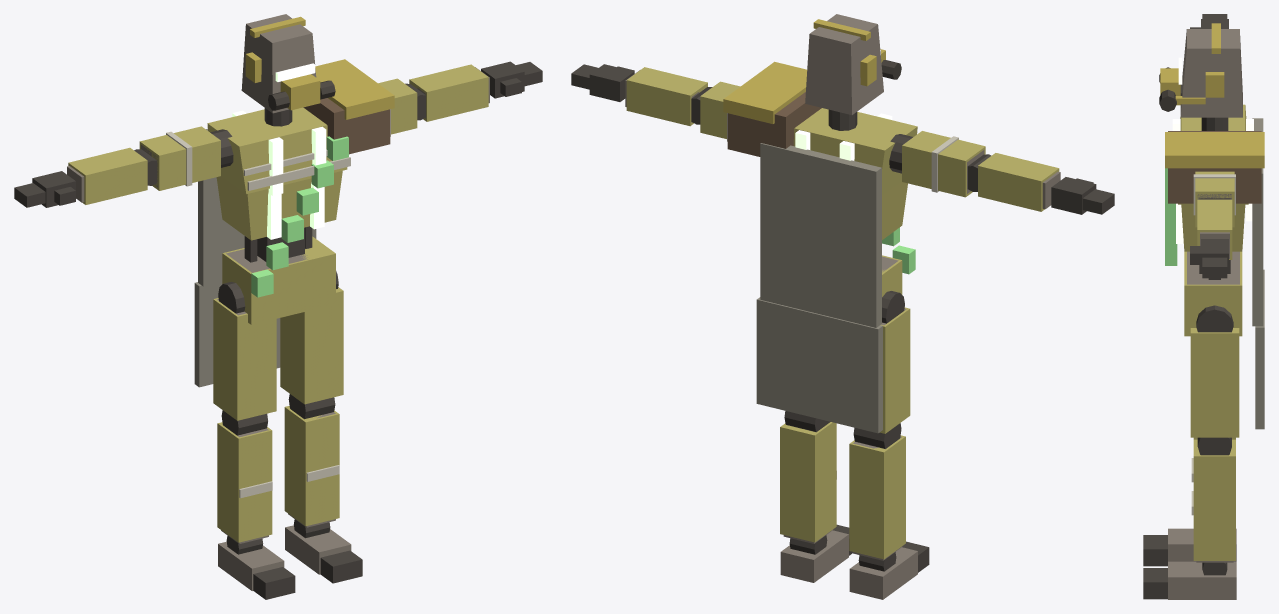
File: char_P_cargo_handler.glb
3 views of the same model, side by side, from view 1: azimuth 30°, elevation 25°; view 2: azimuth 150°, elevation 25°; view 3: azimuth 270°, elevation 25° (orthographic). The views are drawn at different scales.
Visible parts, largest first — view 1: UpperChest_mesh, Hips_mesh, RightUpperLeg_mesh, RightLowerLeg_mesh, LeftLowerLeg_mesh, Head_mesh, LeftUpperLeg_mesh, Chest_mesh, LeftShoulder_mesh, RightLowerArm_mesh, RightUpperArm_mesh, LeftLowerArm_mesh (+8 smaller); view 2: UpperChest_mesh, Hips_mesh, RightLowerLeg_mesh, Head_mesh, LeftLowerLeg_mesh, LeftShoulder_mesh, RightLowerArm_mesh, RightUpperArm_mesh, RightUpperLeg_mesh, LeftLowerArm_mesh, RightFoot_mesh, LeftFoot_mesh (+4 smaller); view 3: Head_mesh, LeftUpperLeg_mesh, LeftShoulder_mesh, LeftLowerLeg_mesh, Hips_mesh, UpperChest_mesh, LeftFoot_mesh, Chest_mesh, LeftLowerArm_mesh, LeftUpperArm_mesh, LeftHand_mesh, RightFoot_mesh (+4 smaller).
Part boxes in pixels (bbox=[...]): UpperChest_mesh: bbox=[198, 107, 350, 286]; Hips_mesh: bbox=[194, 236, 335, 387]; RightUpperLeg_mesh: bbox=[213, 281, 276, 420]; RightLowerLeg_mesh: bbox=[217, 410, 272, 543]; LeftLowerLeg_mesh: bbox=[284, 394, 339, 527]; Head_mesh: bbox=[241, 14, 335, 113]; LeftUpperLeg_mesh: bbox=[280, 271, 343, 404]; Chest_mesh: bbox=[216, 171, 342, 297]; LeftShoulder_mesh: bbox=[303, 59, 394, 154]; RightLowerArm_mesh: bbox=[67, 147, 157, 204]; RightUpperArm_mesh: bbox=[139, 126, 220, 190]; LeftLowerArm_mesh: bbox=[405, 64, 489, 121]; UpperChest_mesh: bbox=[760, 108, 917, 327]; Hips_mesh: bbox=[756, 255, 902, 433]; RightLowerLeg_mesh: bbox=[849, 423, 905, 560]; Head_mesh: bbox=[805, 14, 901, 114]; LeftLowerLeg_mesh: bbox=[780, 411, 836, 543]; LeftShoulder_mesh: bbox=[723, 61, 821, 156]; RightLowerArm_mesh: bbox=[967, 153, 1060, 211]; RightUpperArm_mesh: bbox=[902, 131, 985, 197]; RightUpperLeg_mesh: bbox=[880, 291, 910, 433]; LeftLowerArm_mesh: bbox=[625, 67, 712, 126]; RightFoot_mesh: bbox=[849, 547, 917, 599]; LeftFoot_mesh: bbox=[780, 530, 848, 582]; Head_mesh: bbox=[1159, 23, 1242, 117]; LeftUpperLeg_mesh: bbox=[1190, 305, 1239, 437]; LeftShoulder_mesh: bbox=[1165, 131, 1264, 203]; LeftLowerLeg_mesh: bbox=[1191, 437, 1235, 562]; Hips_mesh: bbox=[1184, 251, 1264, 429]; UpperChest_mesh: bbox=[1165, 104, 1263, 326]; LeftFoot_mesh: bbox=[1168, 561, 1236, 599]; Chest_mesh: bbox=[1165, 203, 1245, 265]; LeftLowerArm_mesh: bbox=[1197, 198, 1232, 259]; LeftUpperArm_mesh: bbox=[1193, 171, 1235, 227]; LeftHand_mesh: bbox=[1190, 239, 1228, 278]; RightFoot_mesh: bbox=[1168, 528, 1236, 561].
Bounding box in the file's own units: 1.92 × 1.91 × 0.39.
